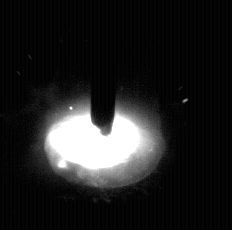arame: (92, 0, 116, 136)
poca: (44, 0, 165, 230)
